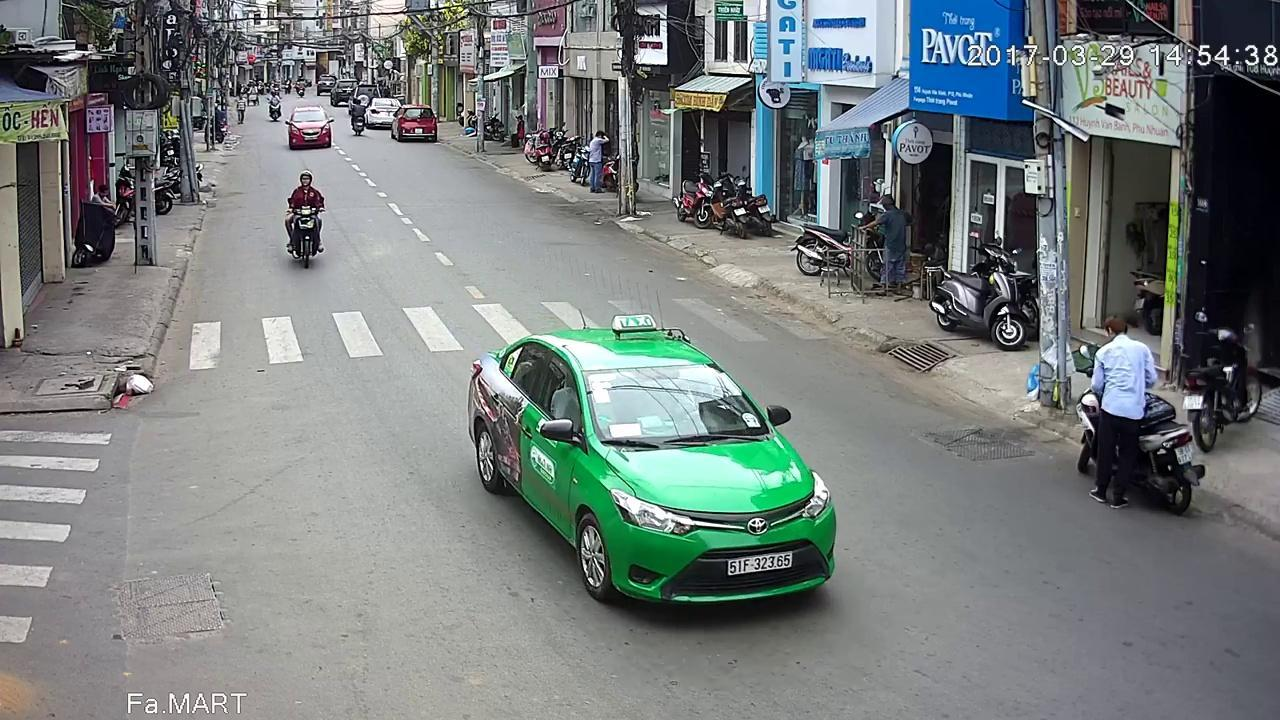xe hoi: (468, 308, 837, 603), (284, 108, 334, 153), (390, 102, 437, 139)
xe may: (282, 172, 325, 270)
